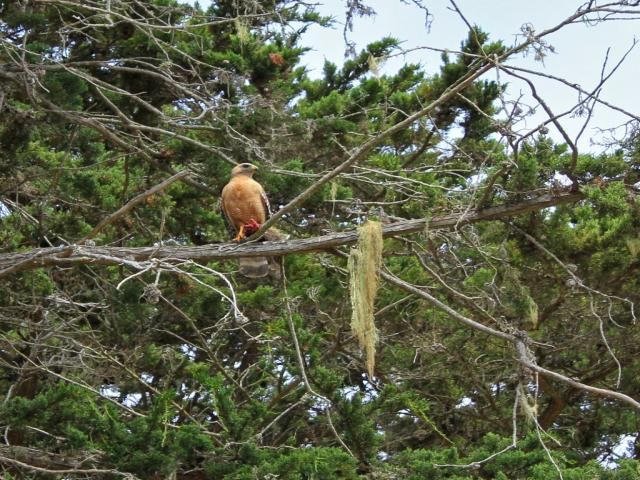Bird: (219, 158, 293, 279)
